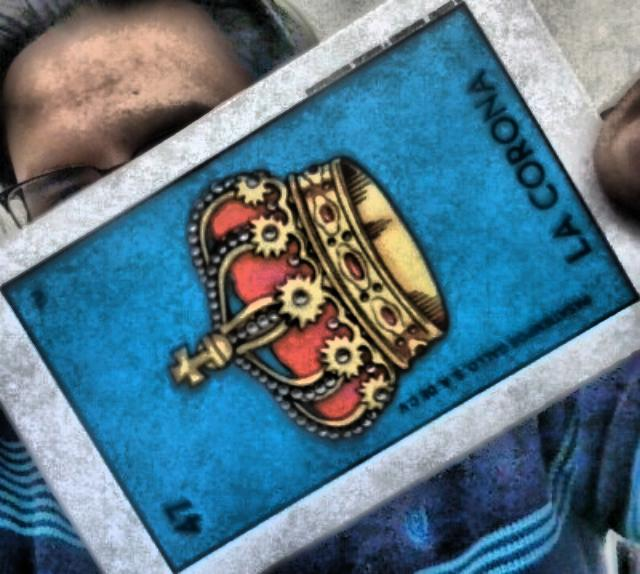La Corona: (1, 4, 638, 572)
